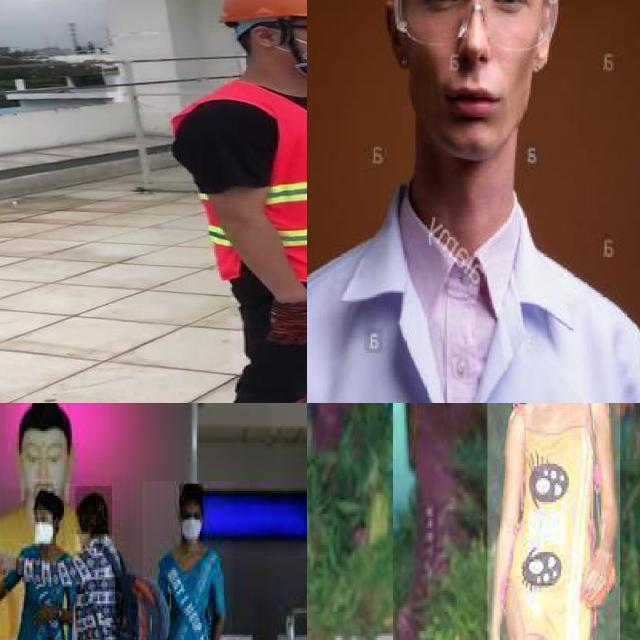No_Ear-Protection: (247, 23, 279, 53)
face_mask: (181, 505, 203, 541), (35, 510, 53, 544)
face_nomask: (395, 0, 539, 136), (75, 515, 96, 551)
glasses: (391, 0, 555, 50)
hand_noglove: (579, 548, 613, 604)
head_helmet: (215, 0, 307, 26)
head_nohelmet: (75, 486, 112, 534), (34, 484, 56, 515), (179, 484, 203, 505)
person: (307, 0, 640, 403), (166, 0, 307, 403), (487, 403, 621, 640), (142, 481, 233, 640), (60, 474, 134, 640), (0, 488, 67, 640)
vest: (165, 76, 307, 281)
